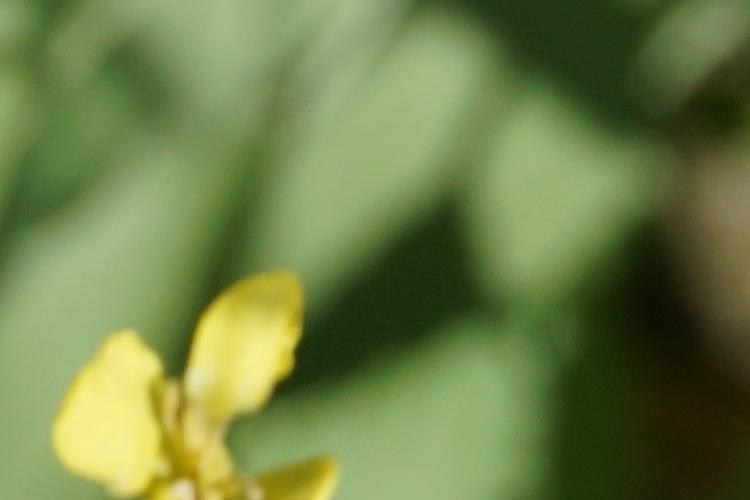yellow: (55, 272, 340, 500)
